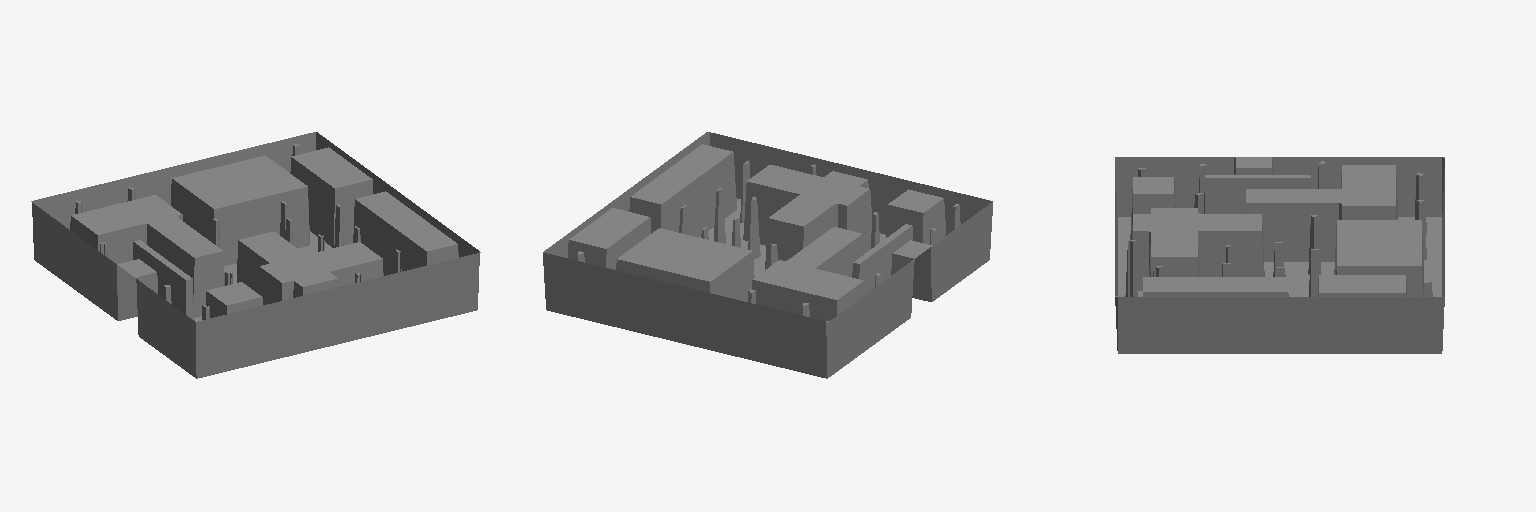
The model's file is map.obj.
3 views of the same model, side by side, from view 1: azimuth 30°, elevation 25°; view 2: azimuth 150°, elevation 25°; view 3: azimuth 270°, elevation 25° (orthographic).
Parts seen in each view (by area): view 1: map; view 2: map; view 3: map.
Boxes of the visible parts, x1,y1,x2,y2 form: map: [31, 132, 480, 378]; map: [543, 132, 992, 378]; map: [1115, 157, 1444, 353].
Bounding box in the file's own units: 12.8 × 2.5 × 12.8.